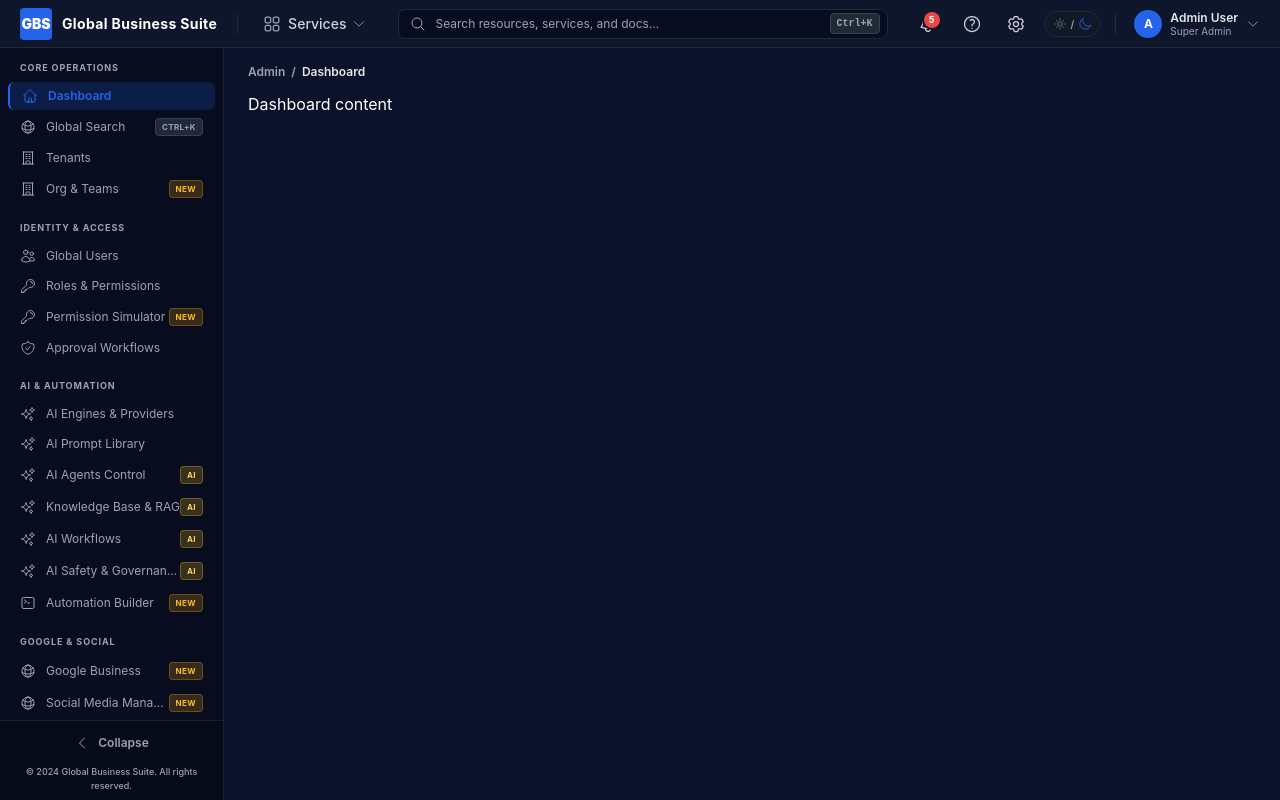
Admin dashboard shell behavior › opens Ctrl+K, filters destinations, and navigates the selected result
The image size is (1280, 800).
Press k
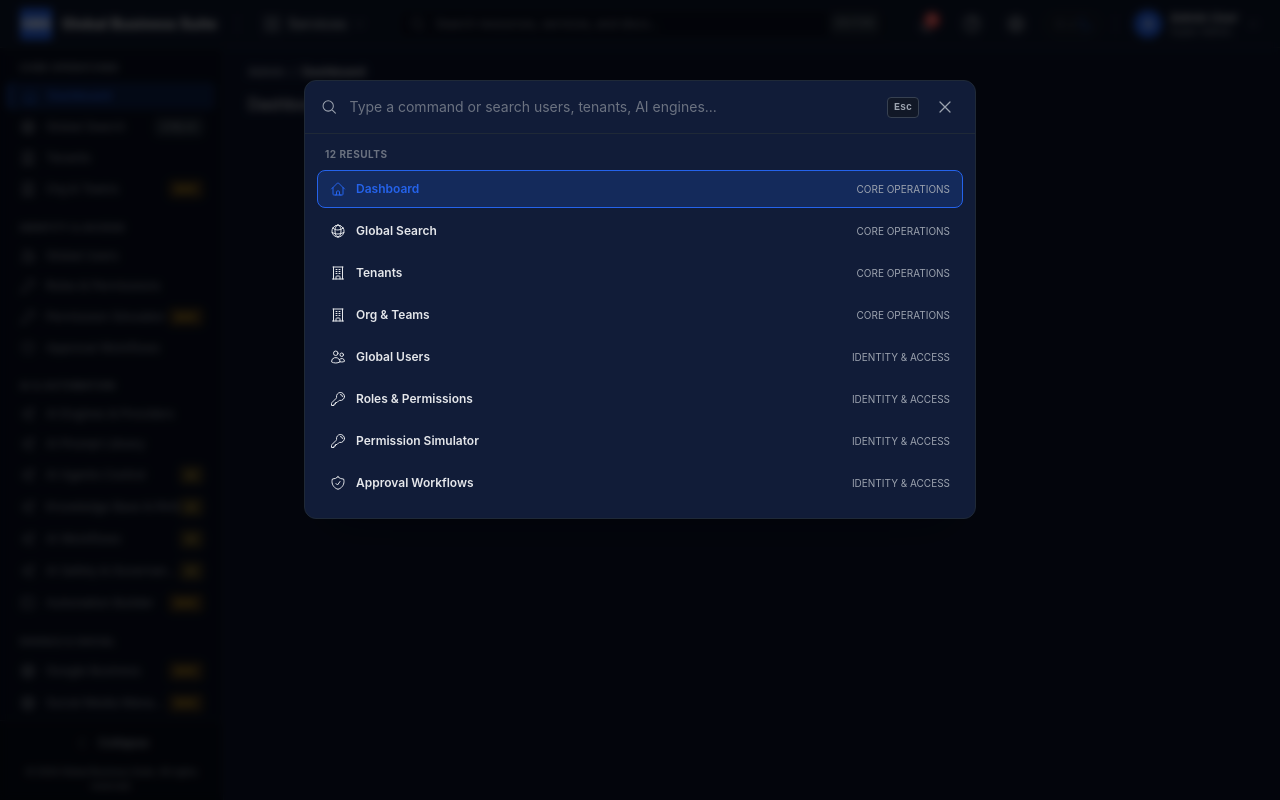
Check: the dialog named "Global command palette" is shown
Type "Roles & Permissions" into the search field with placeholder "Type a command or search users, tenants, AI engines..." at (612, 107), box [350,97,875,117]
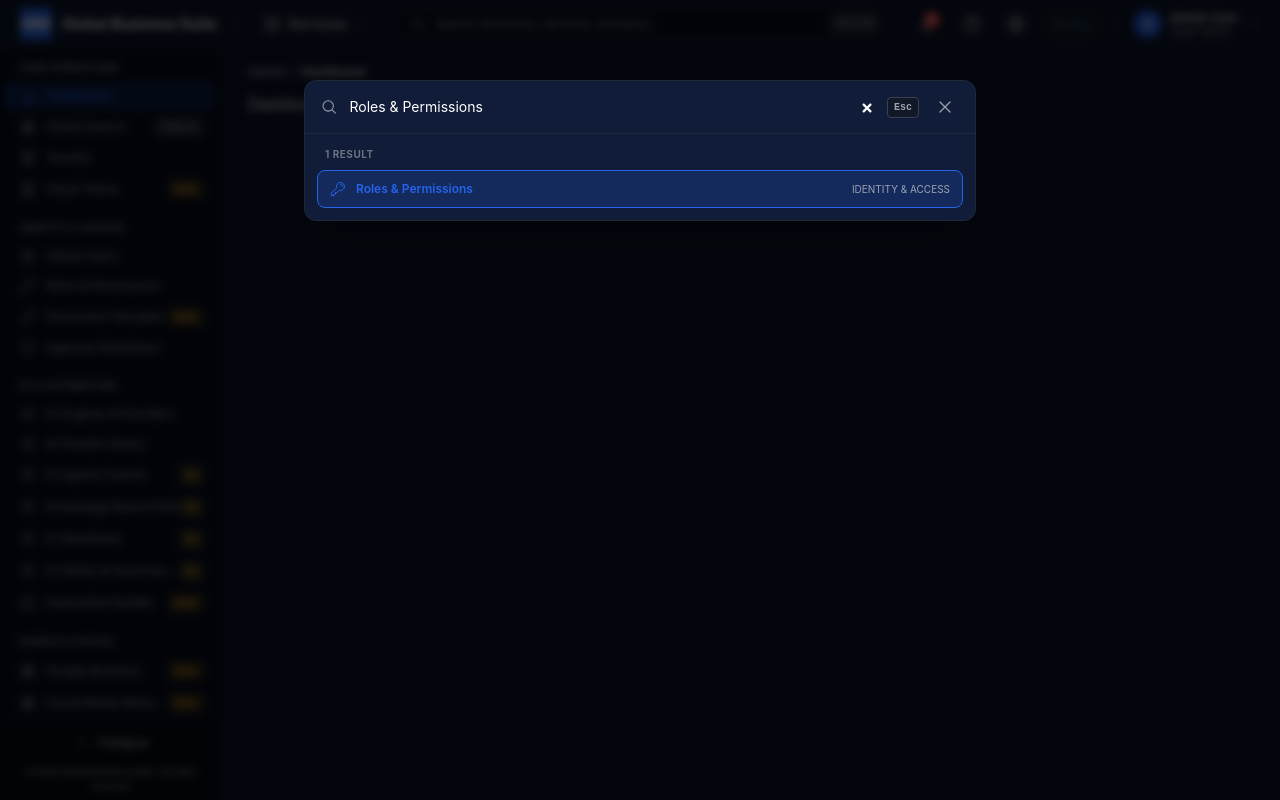
Check: the text "1 result" is shown, box [325,148,374,160]
Press Enter in the search field with placeholder "Type a command or search users, tenants, AI engines...", box [350,97,875,117]
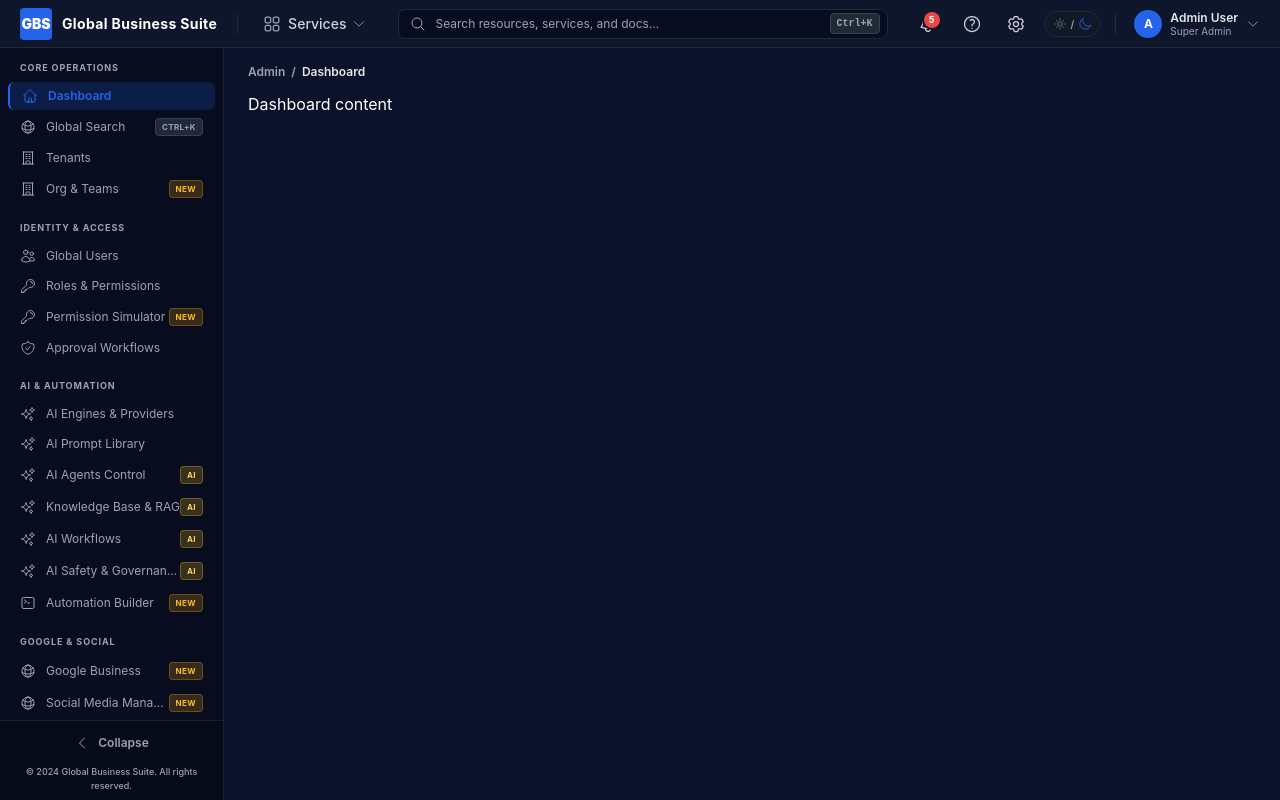
Check: the dialog is gone
